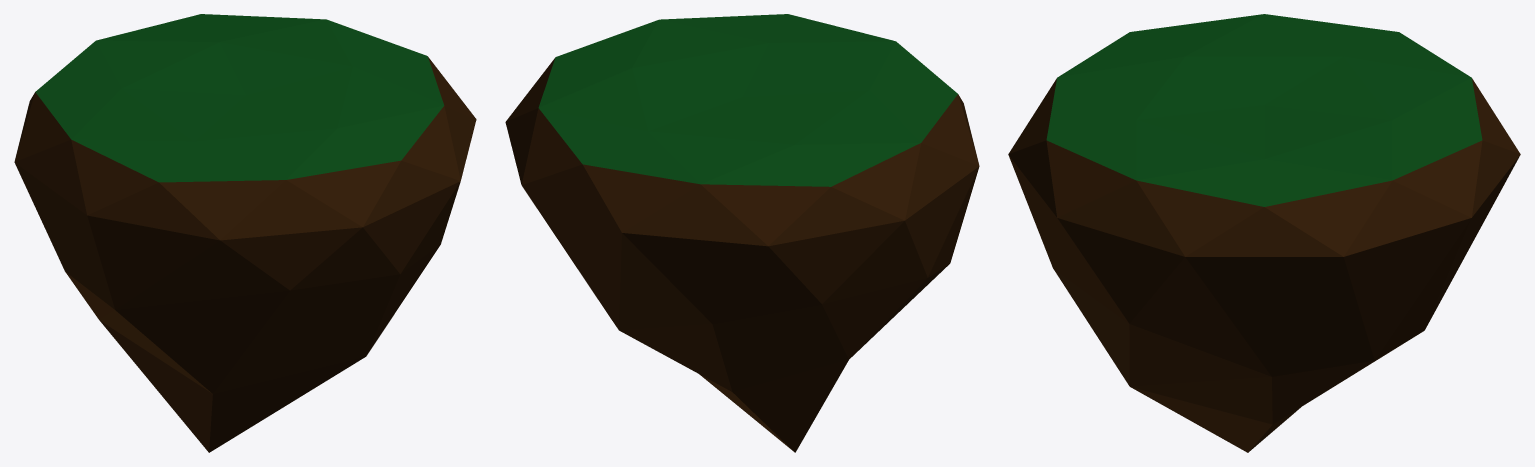
File: Island.fbx
3 views of the same model, side by side, from view 1: azimuth 30°, elevation 25°; view 2: azimuth 150°, elevation 25°; view 3: azimuth 270°, elevation 25° (orthographic). The views are drawn at different scales.
Parts seen in each view (by area): view 1: Floating Island; view 2: Floating Island; view 3: Floating Island.
Boxes of the visible parts, x1,y1,x2,y2 form: Floating Island: [14, 14, 476, 452]; Floating Island: [505, 14, 979, 452]; Floating Island: [1008, 14, 1520, 452].
Bounding box in the file's own units: 512 × 432 × 536.
